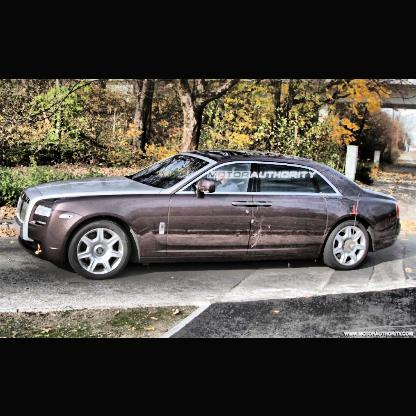Rolls-Royce Ghost Sedan 2012: (15, 150, 402, 281)
